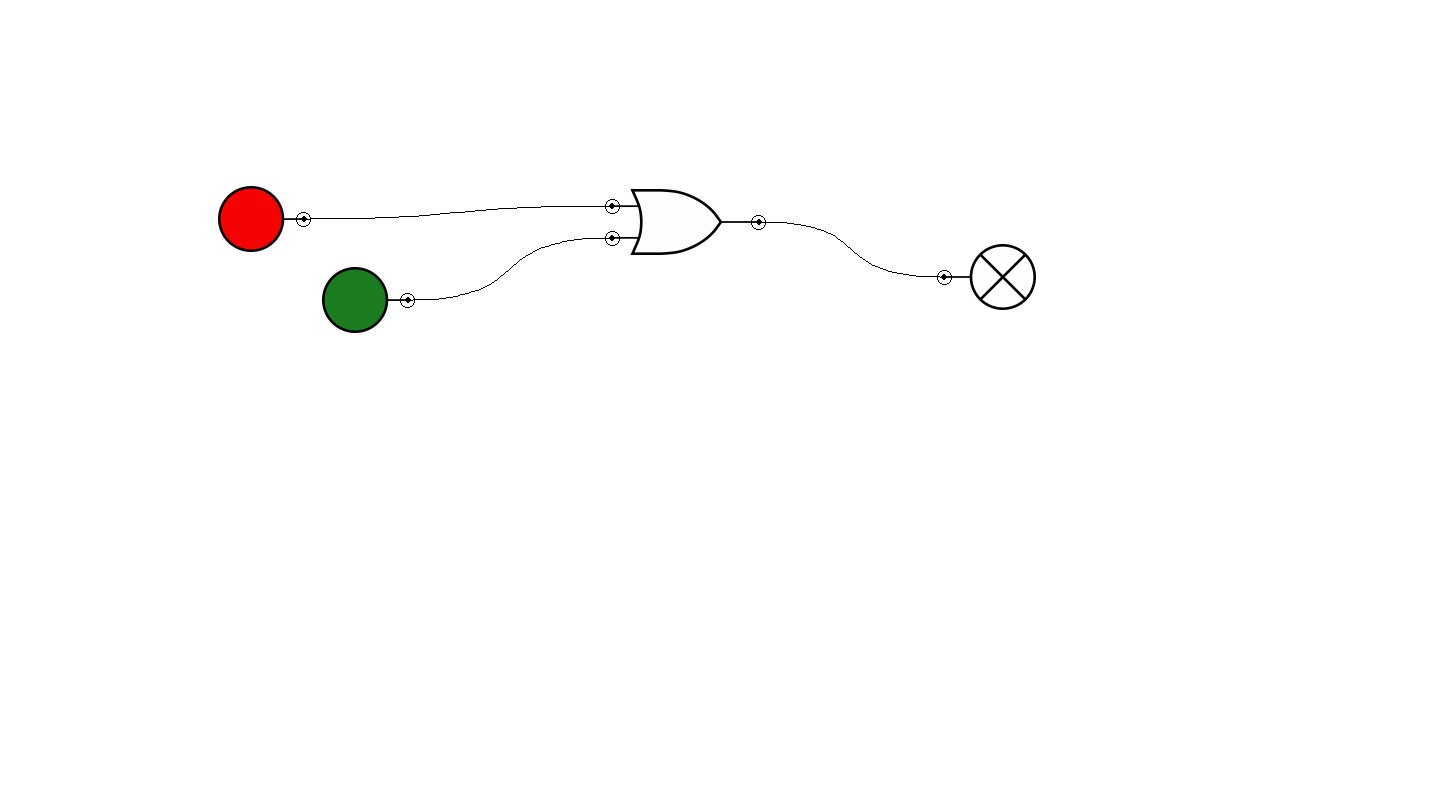bulb: (937, 244, 1036, 310)
or: (605, 189, 766, 255)
switch_False: (218, 186, 311, 252)
switch_True: (322, 267, 415, 333)
